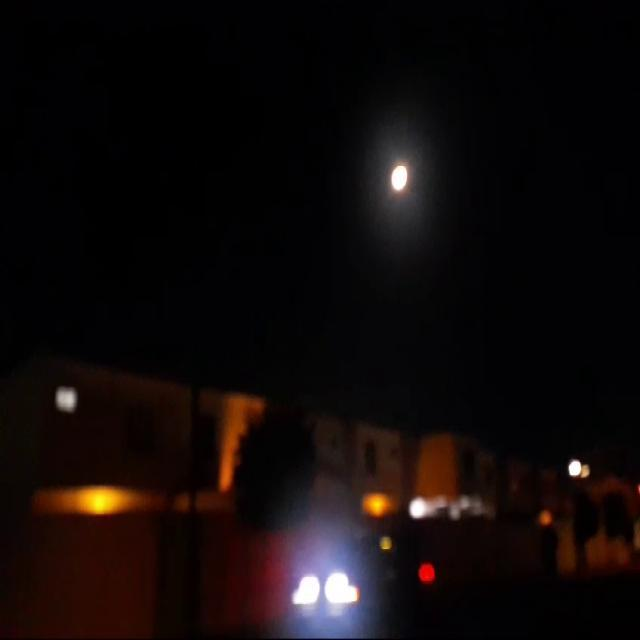moon: (390, 165, 410, 199)
